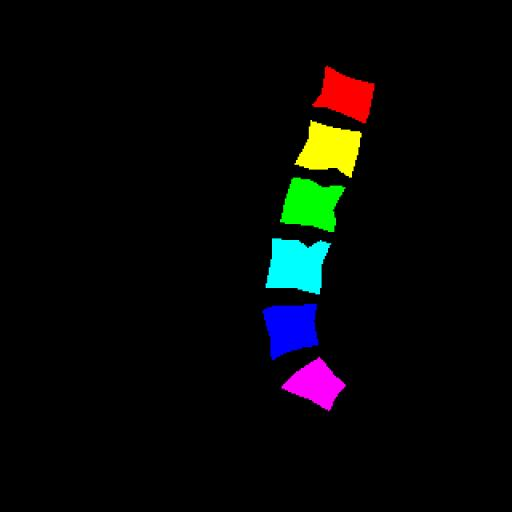L1: (312, 66, 374, 122)
L2: (295, 120, 361, 176)
L3: (280, 178, 345, 232)
L4: (266, 238, 330, 294)
L5: (263, 304, 318, 360)
S1: (282, 357, 346, 410)
